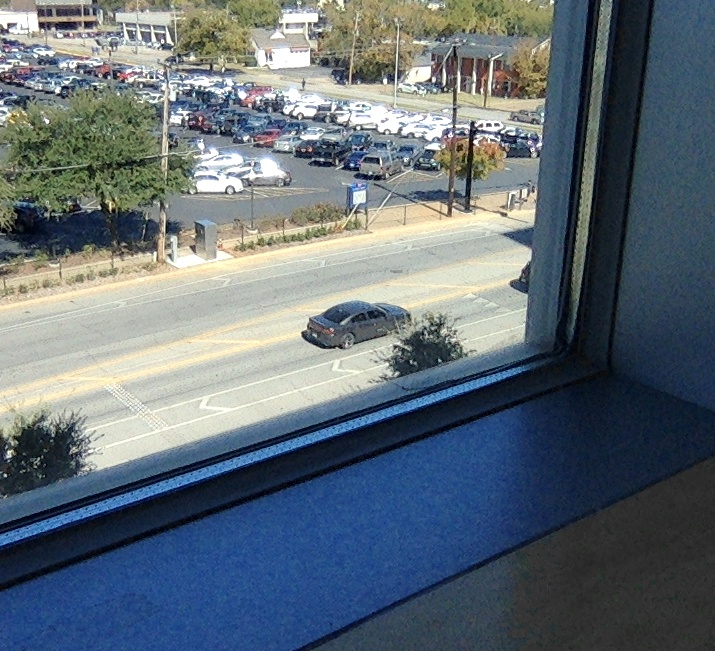car: (300, 300, 415, 351)
